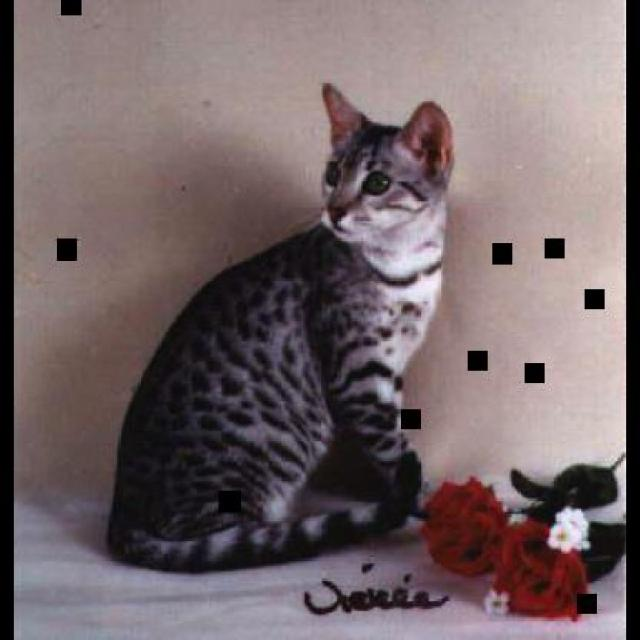unauthorized: (104, 80, 456, 572), (503, 451, 626, 583)
